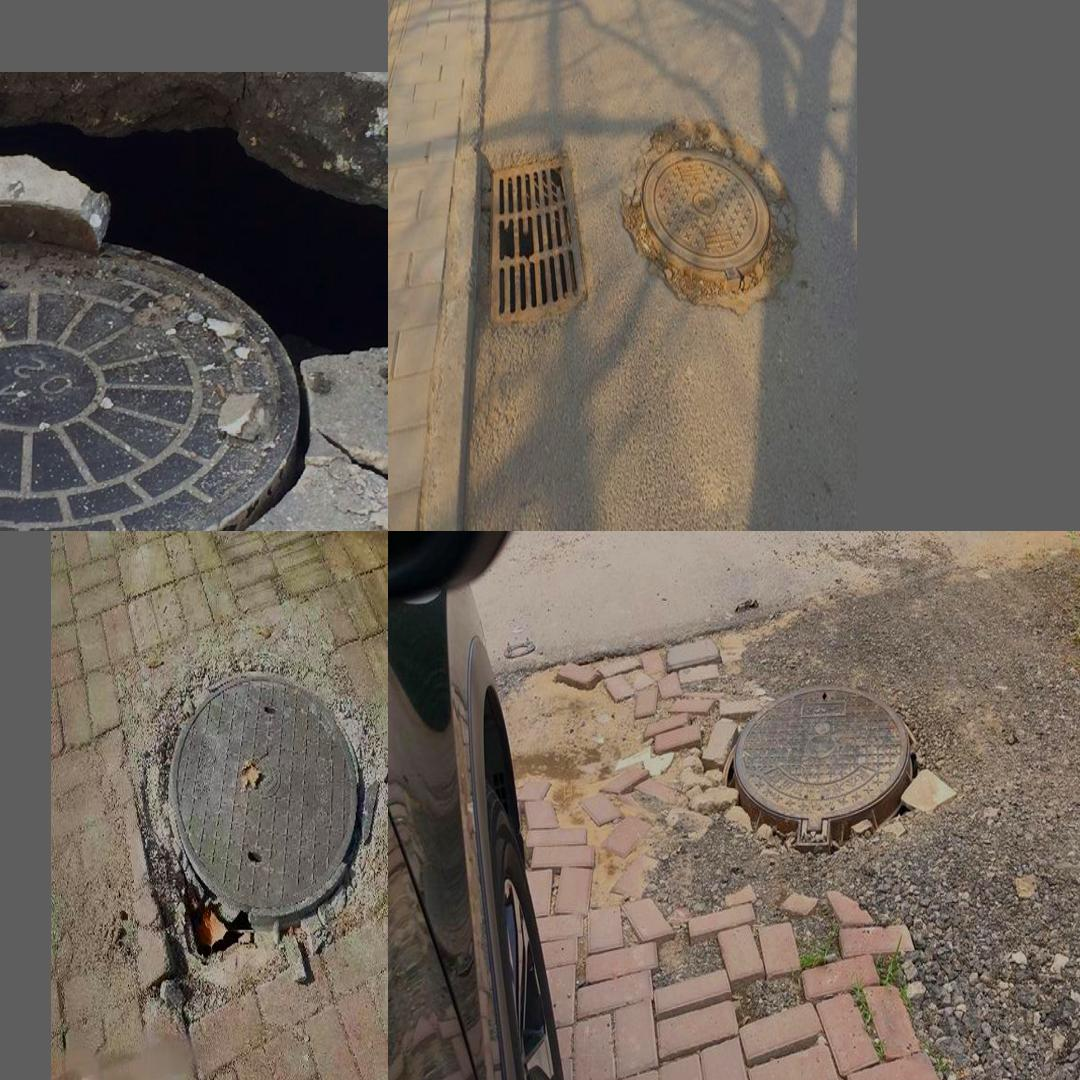circle: (0, 89, 375, 525), (659, 637, 972, 909), (134, 654, 388, 951), (614, 101, 797, 322)
